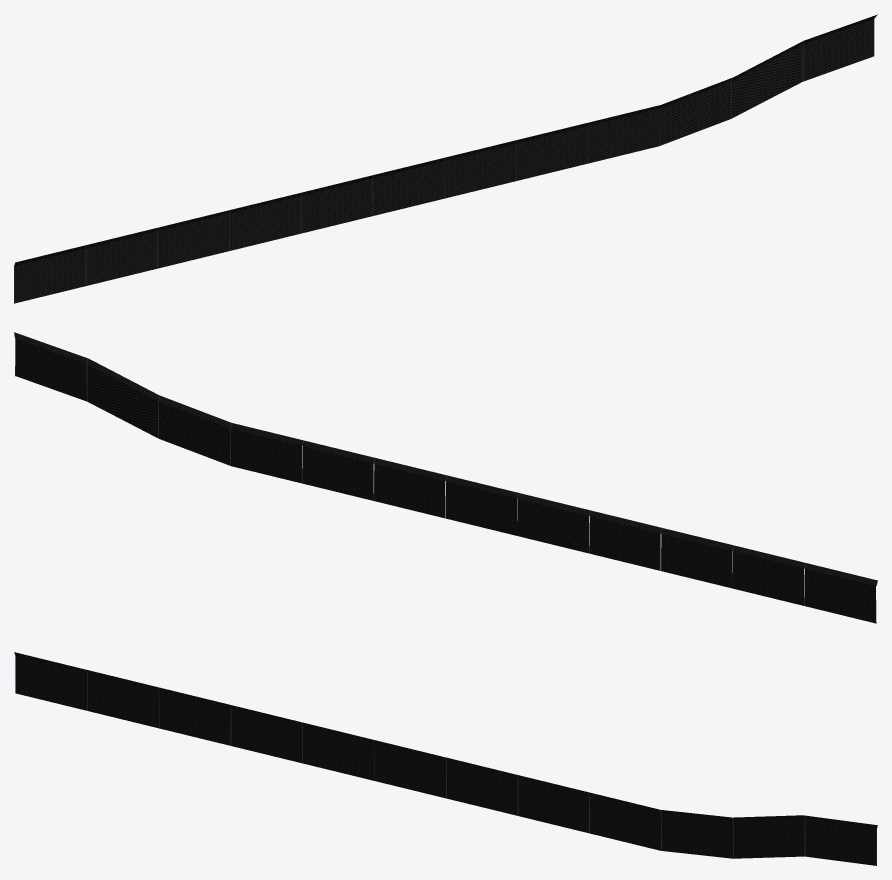
Rendered from M10_Z2_MeshFence01.glb.
3 views of the same model, one above another, from view 1: azimuth 30°, elevation 25°; view 2: azimuth 150°, elevation 25°; view 3: azimuth 330°, elevation 25° (orthographic).
Parts seen in each view (by area): view 1: M10_Z2_MESHFENCE01; view 2: M10_Z2_MESHFENCE01; view 3: M10_Z2_MESHFENCE01.
Part boxes in pixels (x1=…): M10_Z2_MESHFENCE01: x1=14, y1=14, x2=877, y2=303; M10_Z2_MESHFENCE01: x1=14, y1=332, x2=877, y2=623; M10_Z2_MESHFENCE01: x1=14, y1=652, x2=877, y2=865.
Bounding box in the file's own units: 48.14 × 4.25 × 0.172.
2 materials, 2 textured.
